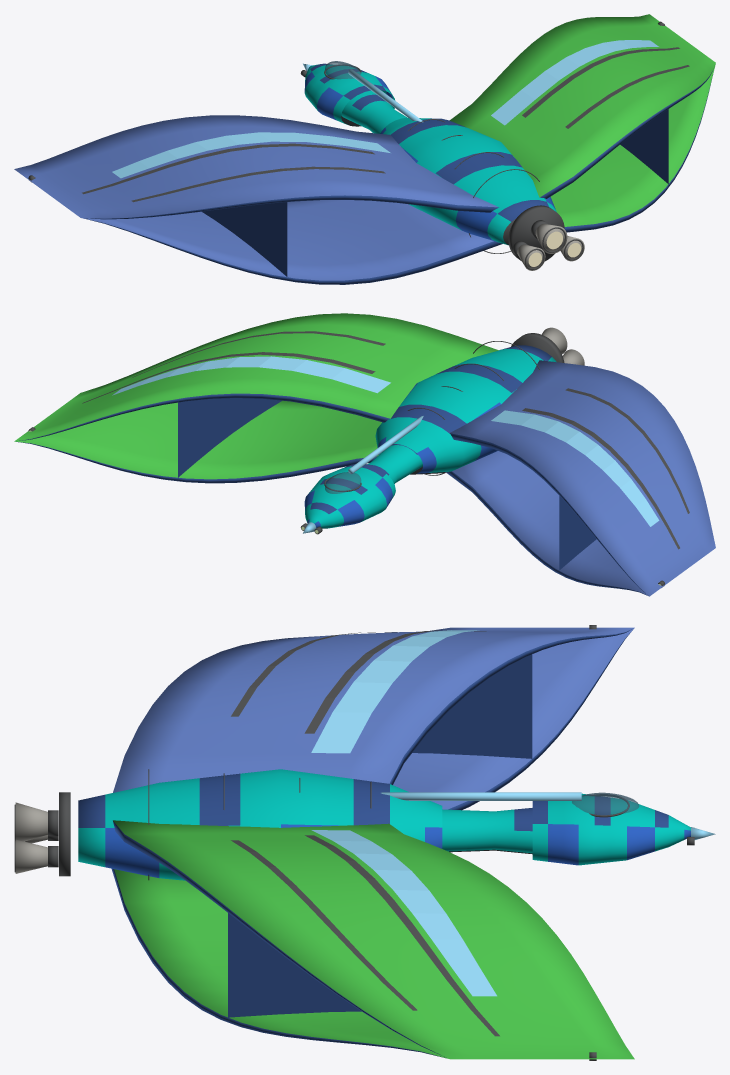
File: Ship_Talonhunter_903666.glb
3 renders of one model, top to bottom at view 1: azimuth 30°, elevation 25°; view 2: azimuth 150°, elevation 25°; view 3: azimuth 270°, elevation 25°, orthographic. The views are drawn at different scales.
Visible parts, largest first — view 1: WingUpper_Right_ForwardSweptCrescentPlate.002, WingUpper_Right_ForwardSweptCrescentPlate.001, WingLower_Right_ForwardSweptCrescentPlate.002, ReactorBody_AftOvalCore, WingLower_Right_ForwardSweptCrescentPlate.001, WingMidRib_Left_OpenGapSupportStrut, PaintCommandSpineEcho_Left_UpperInnerSweep, CommandHead_BeakedForwardPod, PaintCommandSpineEcho_Right_UpperInnerSweep, WingMidRib_Right_OpenGapSupportStrut, CommandNeck_NarrowForwardSpine, EngineDeck_AftCompactMountPlate (+8 smaller); view 2: WingUpper_Right_ForwardSweptCrescentPlate.002, WingUpper_Right_ForwardSweptCrescentPlate.001, WingLower_Right_ForwardSweptCrescentPlate.001, ReactorBody_AftOvalCore, WingLower_Right_ForwardSweptCrescentPlate.002, CommandHead_BeakedForwardPod, WingMidRib_Right_OpenGapSupportStrut, PaintCommandSpineEcho_Left_UpperInnerSweep, PaintCommandSpineEcho_Right_UpperInnerSweep, WingMidRib_Left_OpenGapSupportStrut, CommandNeck_NarrowForwardSpine, WingPanelLine_Left_Upper_PrimaryCurvedSpar (+6 smaller); view 3: WingUpper_Right_ForwardSweptCrescentPlate.001, WingUpper_Right_ForwardSweptCrescentPlate.002, ReactorBody_AftOvalCore, WingLower_Right_ForwardSweptCrescentPlate.001, WingLower_Right_ForwardSweptCrescentPlate.002, CommandHead_BeakedForwardPod, WingMidRib_Left_OpenGapSupportStrut, WingMidRib_Right_OpenGapSupportStrut, PaintCommandSpineEcho_Right_UpperInnerSweep, PaintCommandSpineEcho_Left_UpperInnerSweep, CommandNeck_NarrowForwardSpine, WingPanelLine_Right_Upper_PrimaryCurvedSpar (+8 smaller).
Part boxes in pixels (left/top/right/bottom): WingUpper_Right_ForwardSweptCrescentPlate.002: left=14, top=115, right=498, bottom=219; WingUpper_Right_ForwardSweptCrescentPlate.001: left=449, top=14, right=715, bottom=198; WingLower_Right_ForwardSweptCrescentPlate.002: left=82, top=200, right=502, bottom=284; ReactorBody_AftOvalCore: left=380, top=117, right=556, bottom=245; WingLower_Right_ForwardSweptCrescentPlate.001: left=550, top=64, right=715, bottom=232; WingMidRib_Left_OpenGapSupportStrut: left=202, top=202, right=287, bottom=276; PaintCommandSpineEcho_Left_UpperInnerSweep: left=112, top=132, right=390, bottom=178; CommandHead_BeakedForwardPod: left=304, top=63, right=395, bottom=126; PaintCommandSpineEcho_Right_UpperInnerSweep: left=491, top=40, right=658, bottom=125; WingMidRib_Right_OpenGapSupportStrut: left=620, top=108, right=668, bottom=185; CommandNeck_NarrowForwardSpine: left=341, top=90, right=406, bottom=133; EngineDeck_AftCompactMountPlate: left=508, top=205, right=564, bottom=261; WingUpper_Right_ForwardSweptCrescentPlate.002: left=449, top=360, right=715, bottom=596; WingUpper_Right_ForwardSweptCrescentPlate.001: left=14, top=313, right=498, bottom=441; WingLower_Right_ForwardSweptCrescentPlate.001: left=15, top=400, right=381, bottom=483; ReactorBody_AftOvalCore: left=375, top=345, right=556, bottom=474; WingLower_Right_ForwardSweptCrescentPlate.002: left=445, top=451, right=648, bottom=596; CommandHead_BeakedForwardPod: left=304, top=464, right=395, bottom=528; WingMidRib_Right_OpenGapSupportStrut: left=178, top=398, right=281, bottom=478; PaintCommandSpineEcho_Left_UpperInnerSweep: left=491, top=410, right=659, bottom=526; PaintCommandSpineEcho_Right_UpperInnerSweep: left=112, top=356, right=390, bottom=395; WingMidRib_Left_OpenGapSupportStrut: left=559, top=496, right=596, bottom=570; CommandNeck_NarrowForwardSpine: left=367, top=444, right=422, bottom=483; WingPanelLine_Left_Upper_PrimaryCurvedSpar: left=522, top=408, right=679, bottom=549; WingUpper_Right_ForwardSweptCrescentPlate.001: left=113, top=820, right=634, bottom=1059; WingUpper_Right_ForwardSweptCrescentPlate.002: left=113, top=627, right=634, bottom=792; ReactorBody_AftOvalCore: left=78, top=769, right=442, bottom=880; WingLower_Right_ForwardSweptCrescentPlate.001: left=111, top=869, right=448, bottom=1058; WingLower_Right_ForwardSweptCrescentPlate.002: left=393, top=628, right=634, bottom=810; CommandHead_BeakedForwardPod: left=532, top=793, right=690, bottom=865; WingMidRib_Left_OpenGapSupportStrut: left=412, top=653, right=532, bottom=760; WingMidRib_Right_OpenGapSupportStrut: left=228, top=911, right=361, bottom=1018; PaintCommandSpineEcho_Right_UpperInnerSweep: left=311, top=830, right=496, bottom=996; PaintCommandSpineEcho_Left_UpperInnerSweep: left=311, top=630, right=479, bottom=753; CommandNeck_NarrowForwardSpine: left=442, top=808, right=532, bottom=854; WingPanelLine_Right_Upper_PrimaryCurvedSpar: left=305, top=835, right=499, bottom=1036.
Size of the model in its own units: 10.11 by 1.44 by 6.95.
